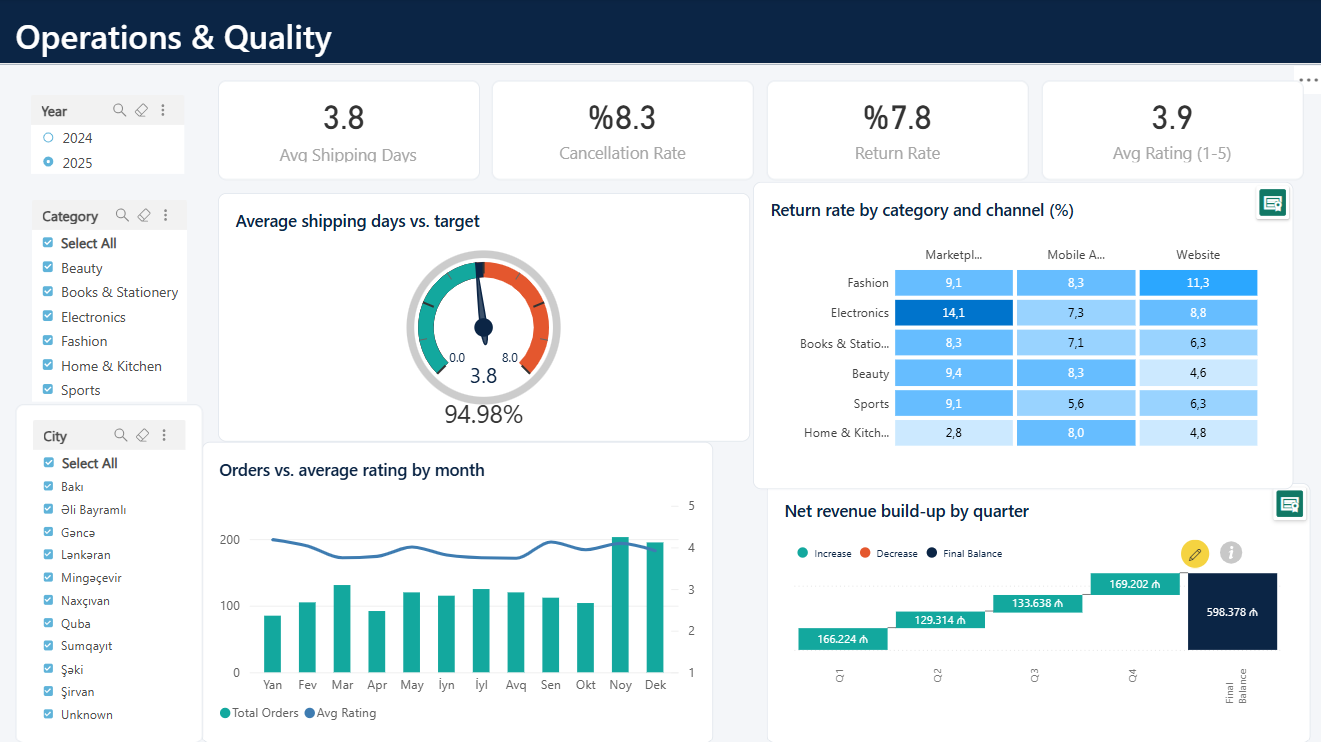

The page's visual inventory and layout, read from the dashboard file:
{"tool":"powerbi","page":{"name":"Operations & Quality","canvas":[1280,720],"ordinal":2},"visuals":[{"type":"shape","box":[0,0,1280,64],"z":1000},{"type":"textbox","box":[16.6,14,600,48],"z":2000},{"type":"advanceCardE03760C5AB684758B56AA29F9E6C257B","fields":{"mainMeasure":["fact_sales.Avg Shipping Days"]},"box":[212,80,253,96],"z":5000},{"type":"advanceCardE03760C5AB684758B56AA29F9E6C257B","fields":{"mainMeasure":["fact_sales.Cancellation Rate"]},"box":[477,80,253,96],"z":6000},{"type":"advanceCardE03760C5AB684758B56AA29F9E6C257B","fields":{"mainMeasure":["fact_sales.Avg Rating"]},"box":[1007,80,253,96],"z":7000},{"type":"advanceCardE03760C5AB684758B56AA29F9E6C257B","fields":{"mainMeasure":["fact_sales.Return Rate"]},"box":[742,80,253,96],"z":8000},{"type":"waterfallChart2AF2CCB0A5A6404AB2A02ACCE7BC300C","title":"Net revenue build-up by quarter","fields":{"category":["Calendar.Quarter"],"measure":["fact_sales.Net Revenue"]},"box":[741.5,467.7,524.6,252.3],"z":9000},{"type":"dg5AAA90EFEFE747CB9357C4FC19B85A58","title":"Average shipping days vs. target","fields":{"min":["fact_sales.Gauge Min"],"max":["fact_sales.Gauge Max"],"yellowStart":["fact_sales.Gauge Target Start"],"yellowEnd":["fact_sales.Gauge Target End"],"redStart":["fact_sales.Gauge Actual Start"],"redEnd":["fact_sales.Gauge Actual End"],"pointerValue":["fact_sales.Avg Shipping Days"],"percentage":["fact_sales.Gauge Percentage"]},"box":[212.3,187.7,513.8,240],"z":10000},{"type":"HeatMap67B54F74B5374B9EA95AC568DC37B14C","title":"Return rate by category and channel (%)","fields":{"yAxis":["fact_sales.Category"],"xAxis":["fact_sales.Sales_Channel"],"datalabel":["fact_sales.Return Rate Pct"],"Value":["fact_sales.Return Rate Pct"],"colorfield":["fact_sales.Return Rate Pct"]},"box":[729.2,176.9,521.5,296.9],"z":11000},{"type":"lineClusteredColumnComboChart","title":"Orders vs. average rating by month","fields":{"Category":["Calendar.Month"],"Y":["fact_sales.Total Orders"],"Y2":["fact_sales.Avg Rating"]},"box":[196.9,427.7,493.8,292.3],"z":12000},{"type":"PowerSlicerA96234ADB8D143D1837FEC426BB34781","fields":{"categories":["Calendar.Year"]},"box":[15.1,79.6,179.8,112.5],"z":12001},{"type":"PowerSlicerA96234ADB8D143D1837FEC426BB34781","fields":{"categories":["fact_sales.Category"]},"box":[16.5,181.1,181.1,227.8],"z":12002},{"type":"PowerSlicerA96234ADB8D143D1837FEC426BB34781","fields":{"categories":["fact_sales.City"]},"box":[16.5,392,181.1,328],"z":12003}]}

Visuals, with their boxes in screenshot pixels (x1, y1, x2, y2), scaled from the page's 1280x720 canvas onto the 1321x742 screenshot:
shape: (x1=0, y1=0, x2=1320, y2=66)
textbox: (x1=17, y1=14, x2=636, y2=64)
advanceCardE03760C5AB684758B56AA29F9E6C257B - fact_sales.Avg Shipping Days: (x1=219, y1=82, x2=480, y2=181)
advanceCardE03760C5AB684758B56AA29F9E6C257B - fact_sales.Cancellation Rate: (x1=492, y1=82, x2=753, y2=181)
advanceCardE03760C5AB684758B56AA29F9E6C257B - fact_sales.Avg Rating: (x1=1039, y1=82, x2=1300, y2=181)
advanceCardE03760C5AB684758B56AA29F9E6C257B - fact_sales.Return Rate: (x1=766, y1=82, x2=1027, y2=181)
"Net revenue build-up by quarter" waterfallChart2AF2CCB0A5A6404AB2A02ACCE7BC300C: (x1=765, y1=482, x2=1307, y2=741)
"Average shipping days vs. target" dg5AAA90EFEFE747CB9357C4FC19B85A58: (x1=219, y1=193, x2=749, y2=441)
"Return rate by category and channel (%)" HeatMap67B54F74B5374B9EA95AC568DC37B14C: (x1=753, y1=182, x2=1291, y2=488)
"Orders vs. average rating by month" lineClusteredColumnComboChart: (x1=203, y1=441, x2=713, y2=741)
PowerSlicerA96234ADB8D143D1837FEC426BB34781 - Calendar.Year: (x1=16, y1=82, x2=201, y2=198)
PowerSlicerA96234ADB8D143D1837FEC426BB34781 - fact_sales.Category: (x1=17, y1=187, x2=204, y2=421)
PowerSlicerA96234ADB8D143D1837FEC426BB34781 - fact_sales.City: (x1=17, y1=404, x2=204, y2=741)
